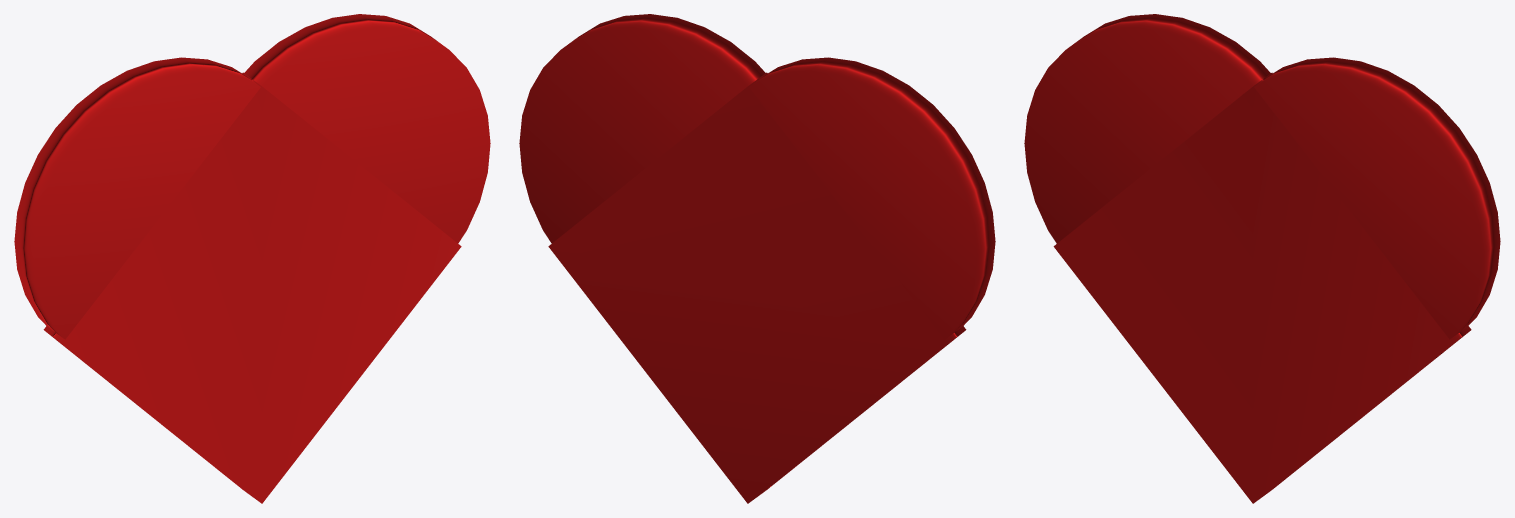
File: heart.obj
The picture shows the model from 3 angles, left to right: view 1: azimuth 30°, elevation 25°; view 2: azimuth 150°, elevation 25°; view 3: azimuth 330°, elevation 25°; orthographic projection.
Parts seen in each view (by area): view 1: Cube; view 2: Cube; view 3: Cube.
Part boxes in pixels (x1,y1,x2,y2): Cube: (14, 14, 490, 503); Cube: (519, 14, 995, 503); Cube: (1024, 14, 1500, 503).
Bounding box in the file's own units: 2.58 × 2.43 × 0.1869.
